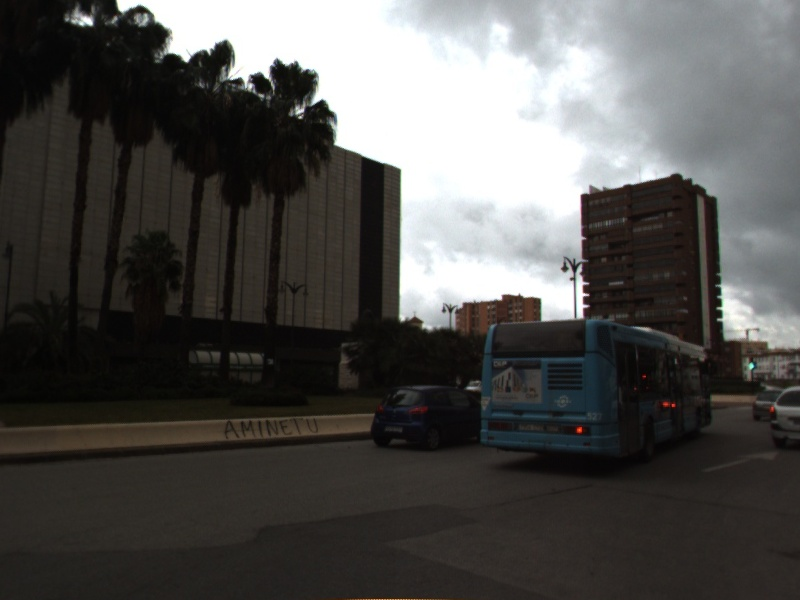STRAIGHT: (699, 449, 781, 474)
